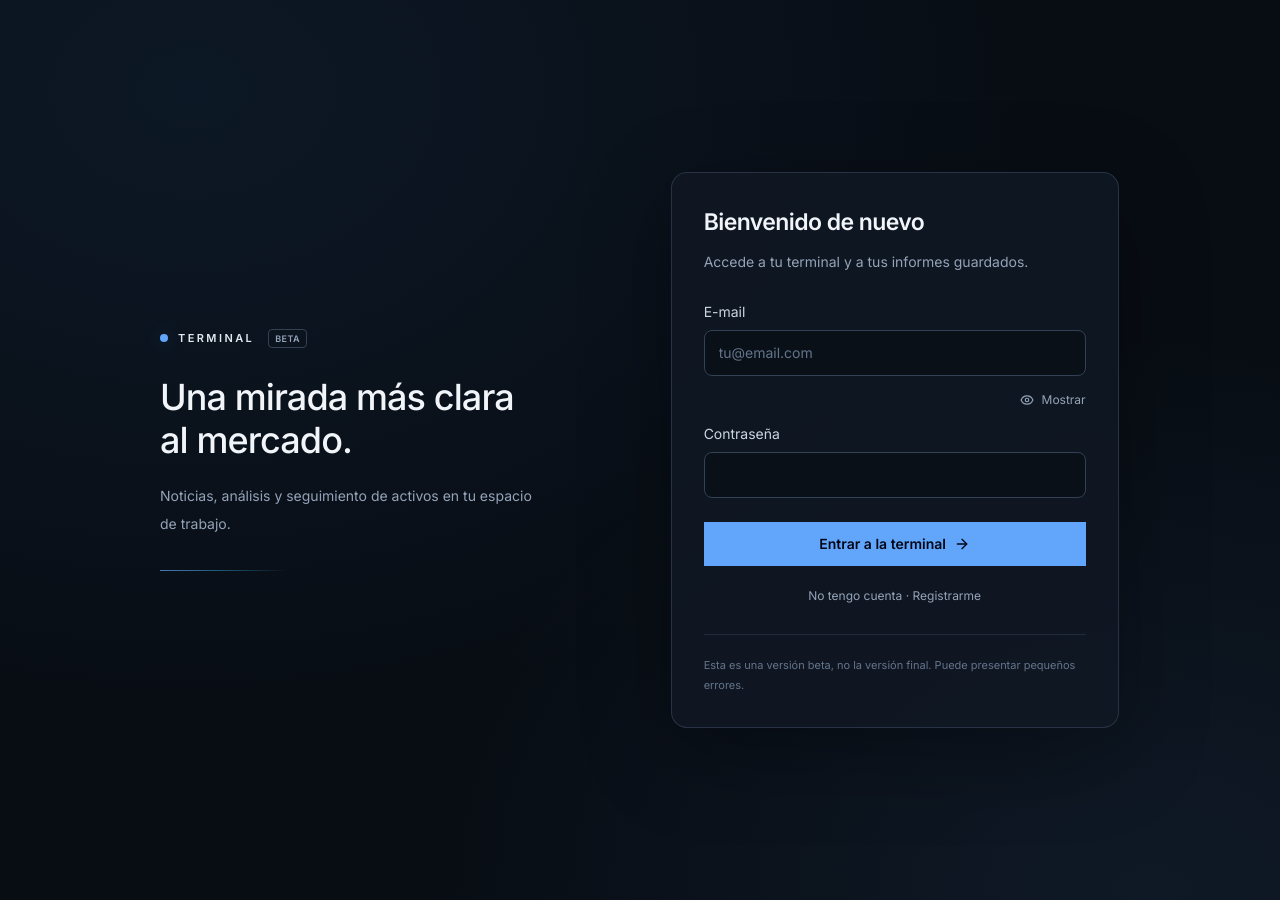
Test: keeps the terminal private and submits email/password login
This screenshot has width=1280, height=900.
Expected: the button "Entrar a la terminal" is shown, top-left (704, 522), bottom-right (1086, 566)
In the field labelled "E-mail": (895, 353) top-left (704, 330), bottom-right (1086, 376), type "Person@example.com"
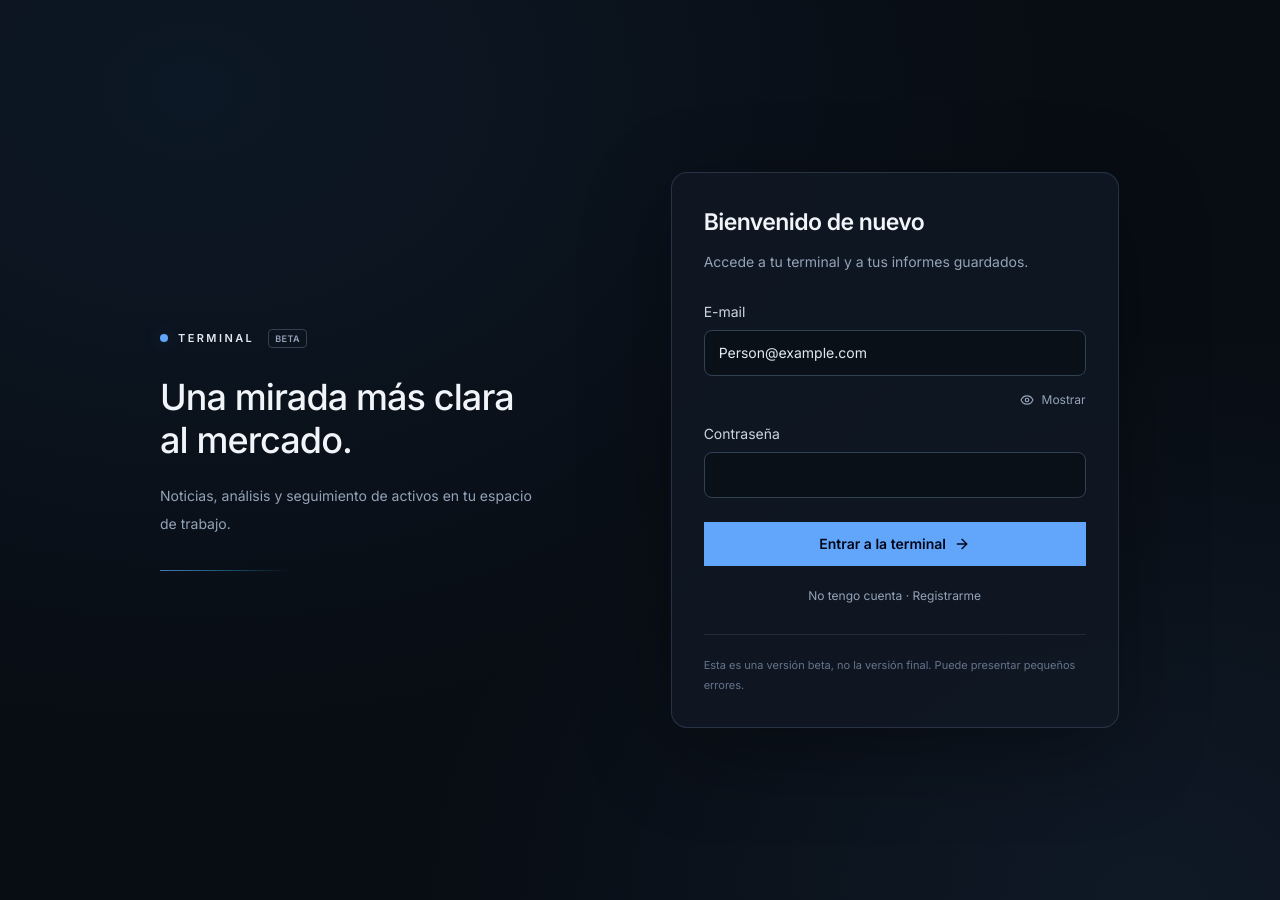
In the password field labelled "Contraseña": (895, 475) top-left (704, 452), bottom-right (1086, 498), type "long-password-123"
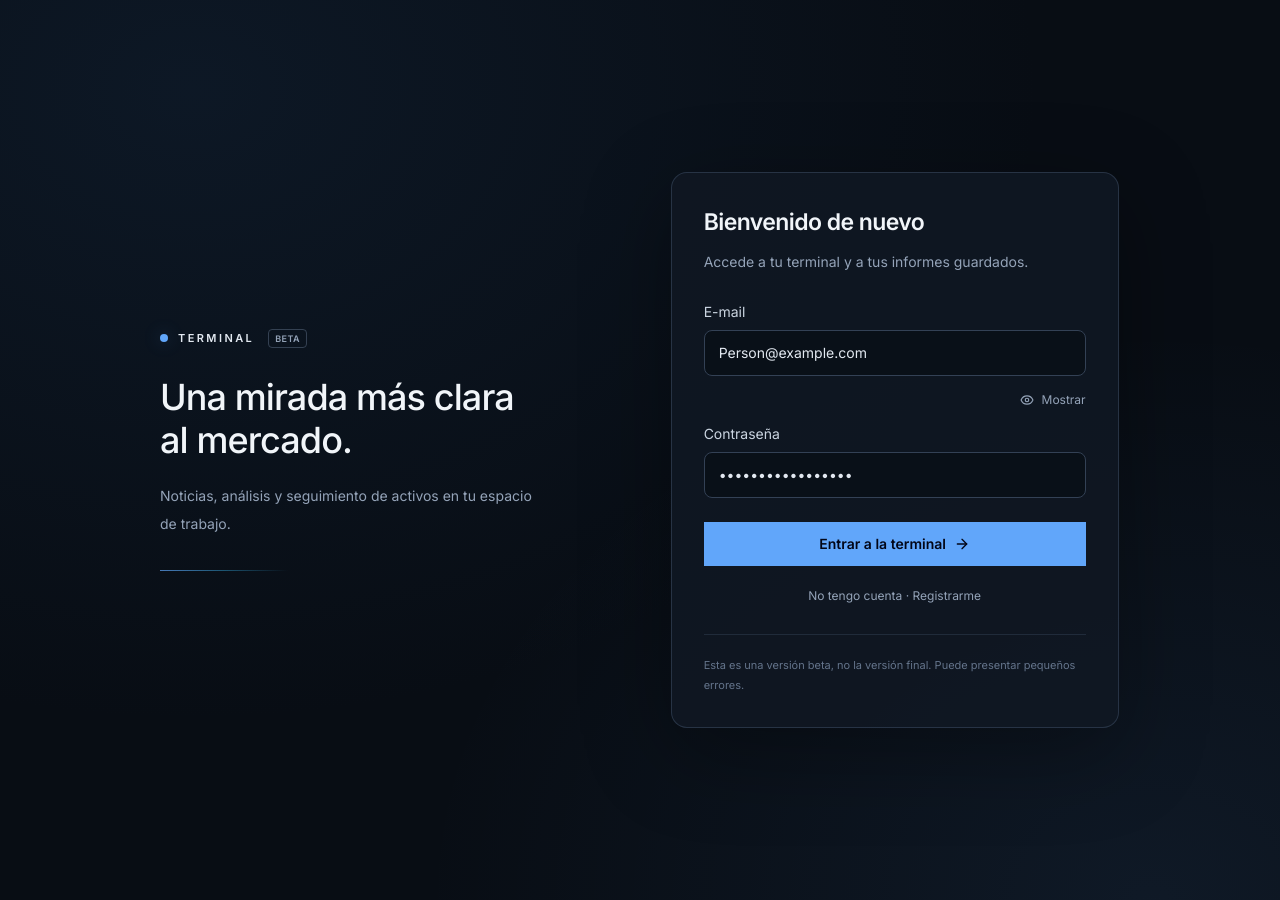
Click the button "Entrar a la terminal": (895, 544) top-left (704, 522), bottom-right (1086, 566)
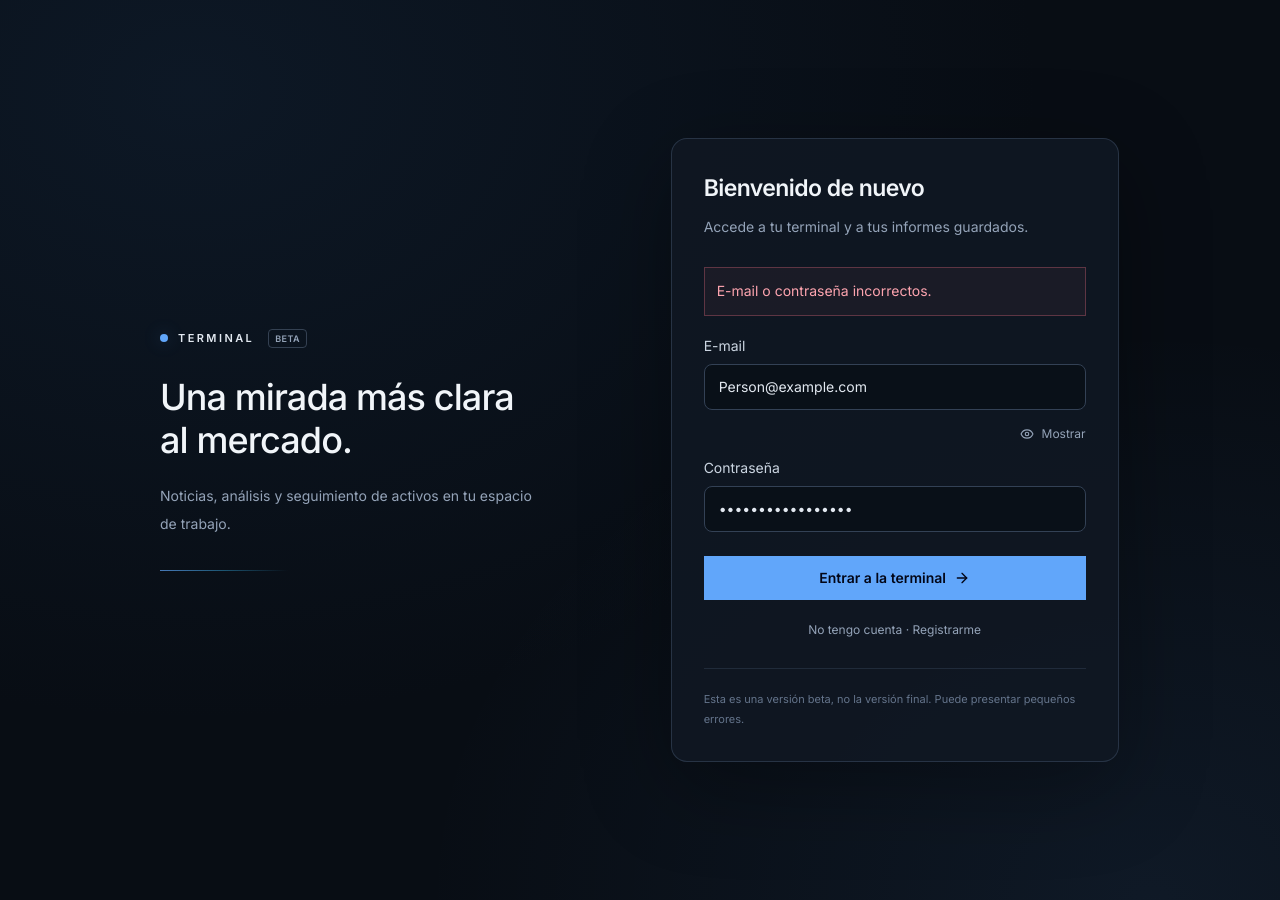
Expected: the message shows "E-mail o contraseña incorrectos", top-left (717, 282), bottom-right (932, 299)
